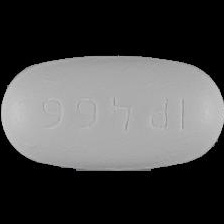63187-022: (0, 0, 224, 224)
